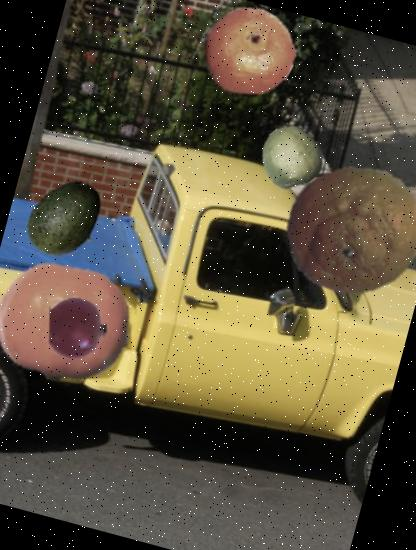Avocado: (14, 167, 119, 272)
Clementine: (0, 241, 144, 404), (188, 0, 306, 111)
Limes: (252, 120, 329, 196)
Mandarine: (270, 145, 416, 314)
Redcurrant: (40, 291, 116, 366)
